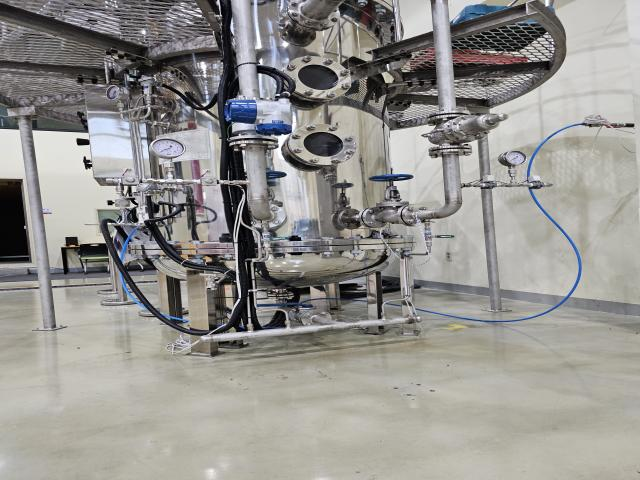Flange: (280, 54, 355, 103), (284, 125, 358, 168)
Flush Ring: (281, 0, 345, 31), (243, 203, 290, 230), (222, 135, 282, 150), (395, 203, 429, 227), (423, 144, 481, 158), (298, 309, 338, 328), (423, 110, 477, 124), (358, 205, 388, 229)
GasRegulator: (103, 75, 184, 126)
Nuts: (192, 175, 228, 188), (115, 175, 146, 188), (522, 179, 553, 191), (476, 179, 502, 191)
Piston Valve: (366, 167, 416, 204), (264, 169, 291, 201)
Pressure Gage: (147, 136, 188, 178), (496, 148, 528, 182)
